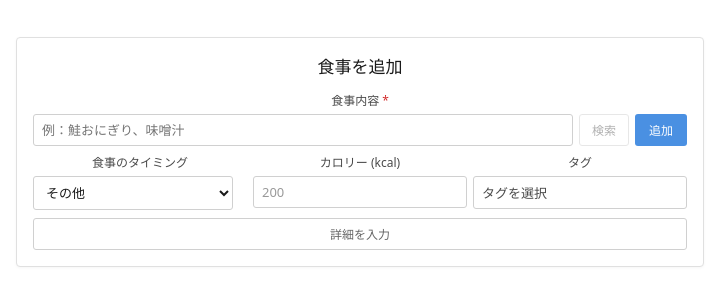
Test: MealForm › 送信エラー時にエラーメッセージが表示される
Step 1. Type "ラーメン" into the field labelled "食事内容" → (303, 130), box 33,114 -> 573,146
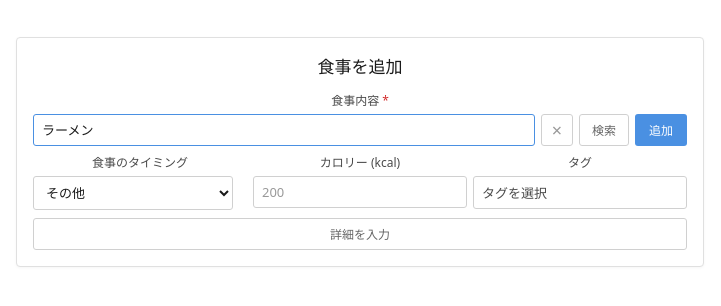
Step 2. Click the button "追加" → (661, 130), box 635,114 -> 687,146
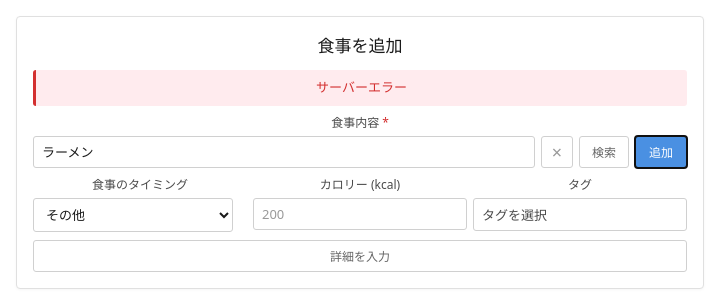
Check: the text "サーバーエラー" is shown, box 33,70 -> 687,106
